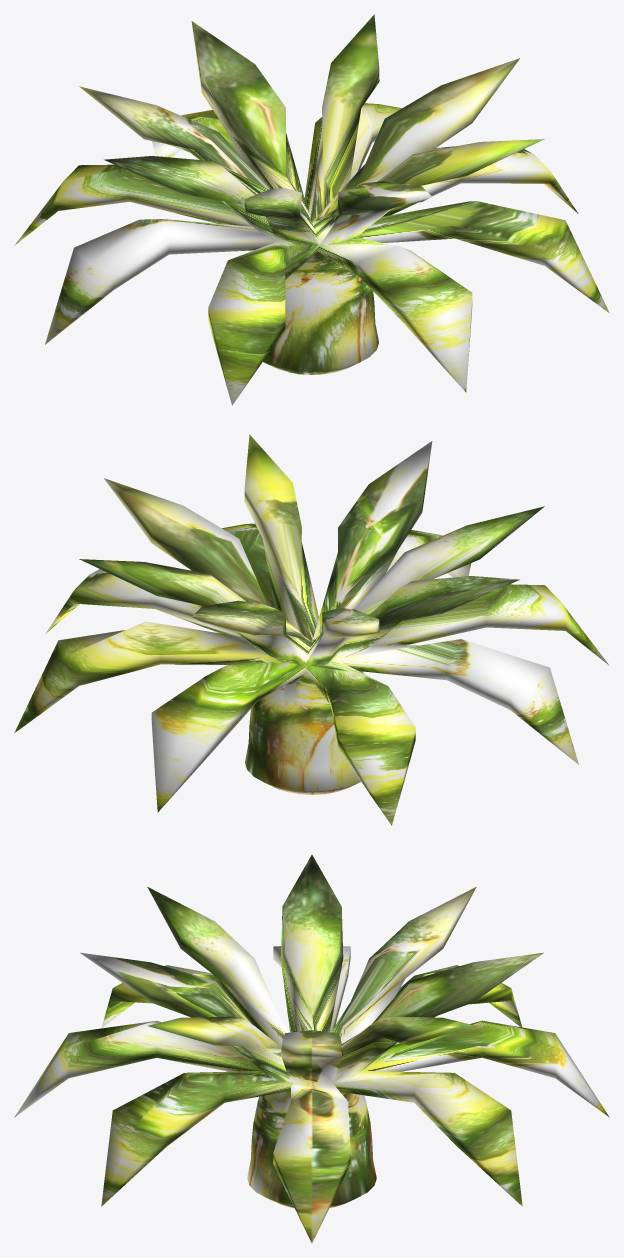
Rendered from Sago Palm.fbx.
3 renders of one model, top to bottom at view 1: azimuth 30°, elevation 25°; view 2: azimuth 150°, elevation 25°; view 3: azimuth 270°, elevation 25°, orthographic. The views are drawn at different scales.
Parts seen in each view (by area): view 1: Sago_Palm; view 2: Sago_Palm; view 3: Sago_Palm.
Part boxes in pixels (x1,y1,x2,y2): Sago_Palm: [14, 14, 609, 405]; Sago_Palm: [14, 434, 609, 825]; Sago_Palm: [14, 855, 609, 1242].
Bounding box in the file's own units: 240 × 106 × 240.
Materials: 1 (1 with a texture image).
